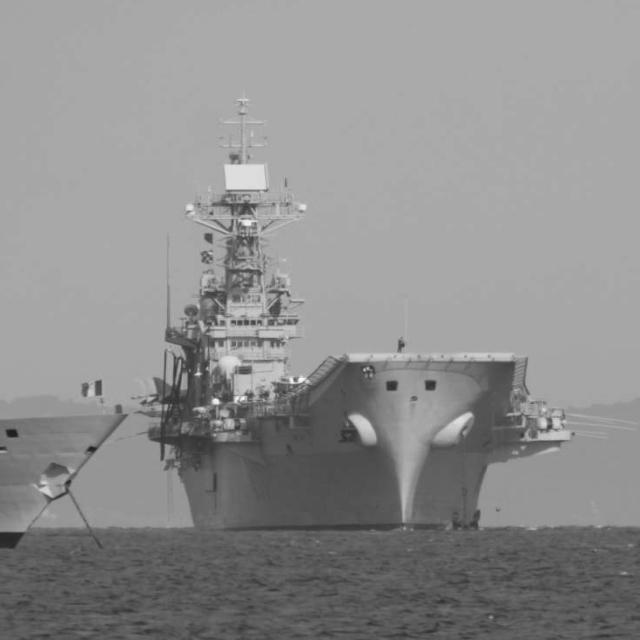Portanaves: (131, 94, 581, 535)
